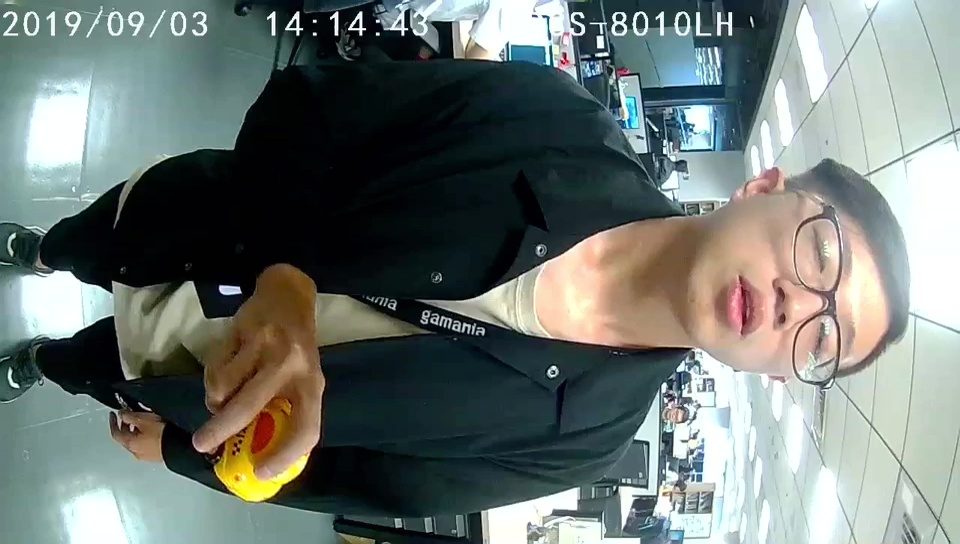car: (216, 395, 307, 506)
